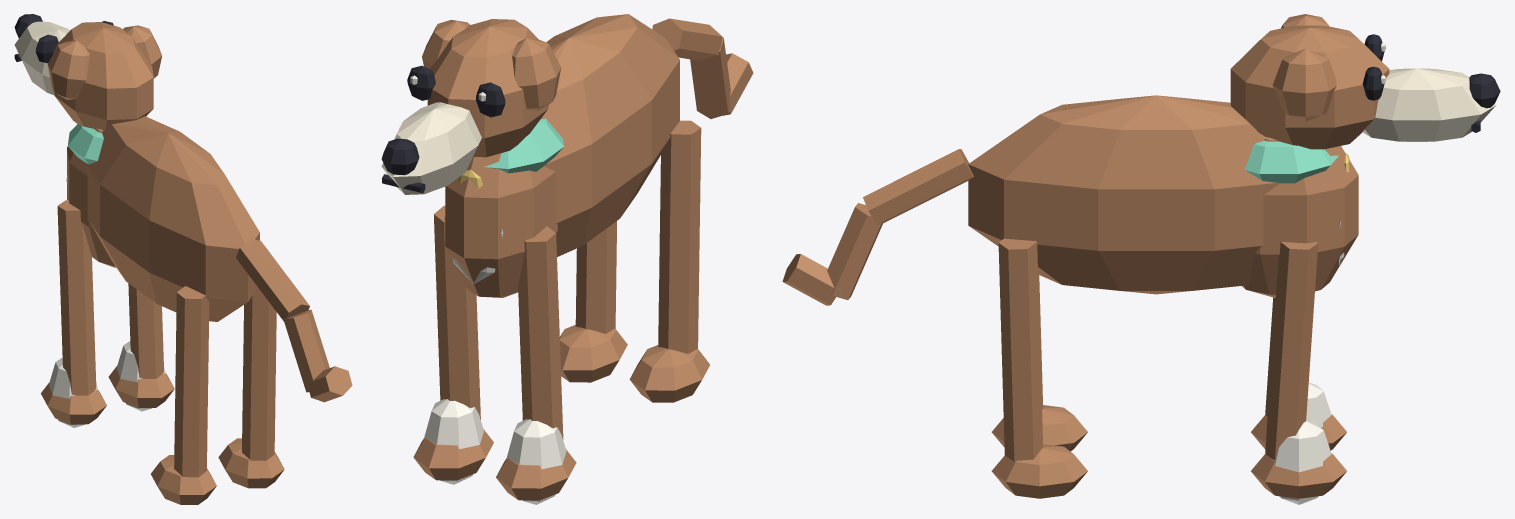
File: azawakh.glb
3 renders of one model, left to right at view 1: azimuth 30°, elevation 25°; view 2: azimuth 150°, elevation 25°; view 3: azimuth 270°, elevation 25°, orthographic. The views are drawn at different scales.
Parts seen in each view (by area): view 1: BodyMesh, HeadMesh; view 2: BodyMesh, HeadMesh; view 3: BodyMesh, HeadMesh.
Boxes of the visible parts, x1,y1,x2,y2 form: BodyMesh: (41,116,352,504); HeadMesh: (14,14,161,129); BodyMesh: (413,14,753,504); HeadMesh: (381,19,561,194); BodyMesh: (782,95,1358,504); HeadMesh: (1230,14,1500,149).
Size of the model in its own units: 0.374 by 1.15 by 1.64.
